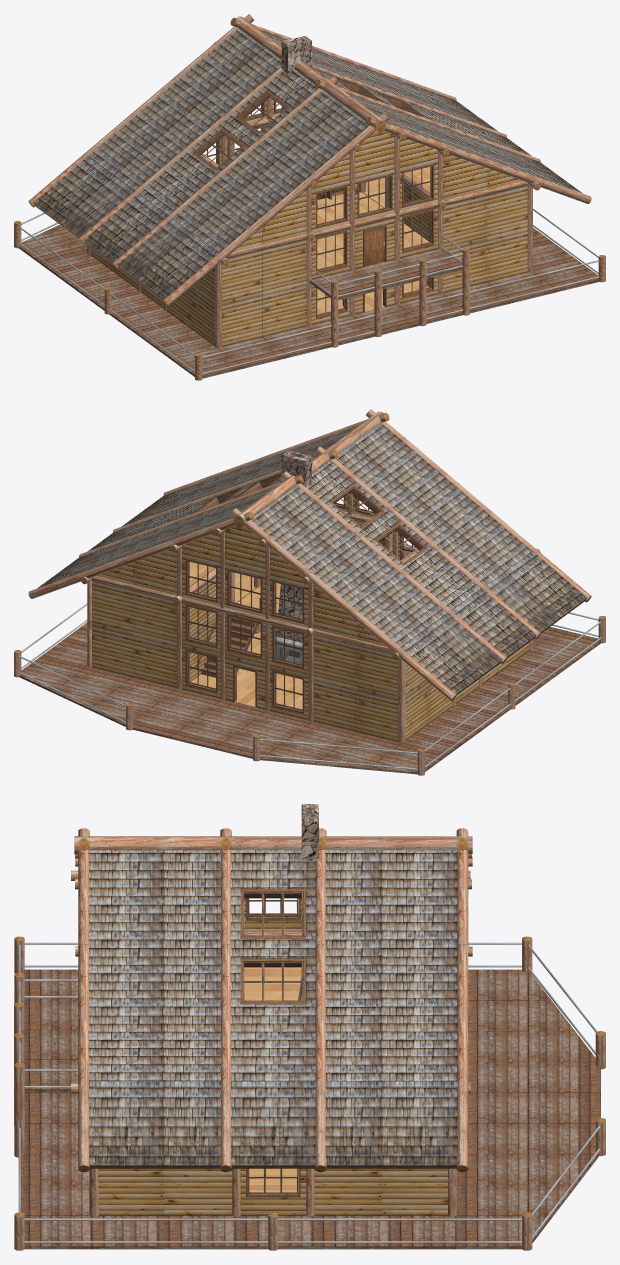
3 renders of one model, top to bottom at view 1: azimuth 30°, elevation 25°; view 2: azimuth 150°, elevation 25°; view 3: azimuth 270°, elevation 25°, orthographic. The views are drawn at different scales.
Visible parts, largest first — view 1: Deck Front, Deck Left, Deck Front001, Roof47, Roof059, Roof069, Roof42, Main Floor Wall012, Roof056, Roof066, Second Floor Wall076, Roof057 (+66 smaller); view 2: Deck Back, Deck Back001, Deck Left, Roof47, Roof069, Roof059, Roof42, Main Floor Wall011, Main Floor Wall010, Roof066, Roof056, Second Floor Wall19 (+62 smaller); view 3: Deck Back, Deck Back001, Deck Right, Deck Front, Roof093, Roof074, Roof079, Roof090, Roof076, Roof071, Roof078, Roof073 (+49 smaller).
Boxes of the visible parts, x1,y1,x2,y2 form: Deck Front: (172, 260, 599, 378); Deck Left: (42, 253, 215, 360); Deck Front001: (309, 248, 463, 300); Roof47: (83, 193, 168, 262); Roof059: (33, 156, 114, 224); Roof069: (137, 233, 218, 299); Roof42: (138, 157, 211, 215); Main Floor Wall012: (262, 281, 306, 336); Roof056: (175, 44, 246, 102); Roof066: (279, 121, 350, 178); Second Floor Wall076: (262, 239, 306, 291); Roof057: (131, 83, 200, 138); Deck Back: (21, 655, 447, 771); Deck Back001: (19, 675, 417, 774); Deck Left: (404, 648, 577, 755); Roof47: (452, 588, 536, 657); Roof069: (506, 551, 586, 619); Roof059: (401, 628, 482, 694); Roof42: (408, 552, 481, 610); Main Floor Wall011: (313, 676, 357, 731); Main Floor Wall010: (132, 632, 176, 687); Roof066: (373, 439, 444, 497); Roof056: (269, 516, 340, 573); Second Floor Wall19: (313, 634, 357, 686); Deck Back: (455, 969, 527, 1249); Deck Back001: (528, 972, 600, 1242); Deck Right: (91, 1215, 455, 1249); Deck Front: (20, 969, 91, 1249); Roof093: (231, 1081, 315, 1168); Roof074: (89, 1081, 164, 1168); Roof079: (382, 1081, 457, 1168); Roof090: (231, 1014, 315, 1081); Roof076: (382, 878, 457, 948); Roof071: (89, 878, 164, 948); Roof078: (382, 1014, 457, 1081); Roof073: (89, 1014, 164, 1081).
Bounding box in the file's own units: 237 × 116 × 203.
Materials: 24 (23 with a texture image).
